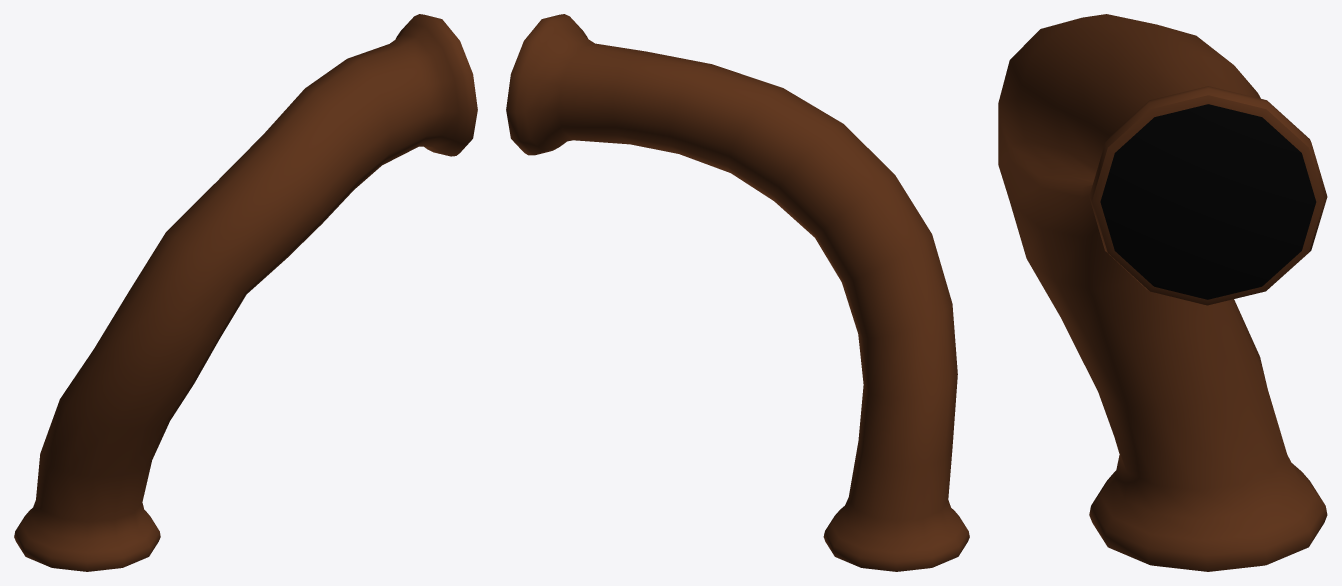
Rendered from Pipe_Curve_2x2_Bent_R.fbx.
3 views of the same model, side by side, from view 1: azimuth 30°, elevation 25°; view 2: azimuth 150°, elevation 25°; view 3: azimuth 270°, elevation 25° (orthographic). The views are drawn at different scales.
Parts seen in each view (by area): view 1: Pipe_Curve_2x2_Bent_R; view 2: Pipe_Curve_2x2_Bent_R; view 3: Pipe_Curve_2x2_Bent_R.
Boxes of the visible parts, left/top/right/bottom form: Pipe_Curve_2x2_Bent_R: left=14, top=14, right=477, bottom=571; Pipe_Curve_2x2_Bent_R: left=506, top=14, right=969, bottom=571; Pipe_Curve_2x2_Bent_R: left=998, top=14, right=1327, bottom=571.
Bounding box in the file's own units: 236 × 236 × 98.12.
